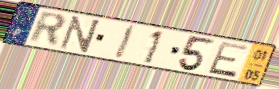1: (143, 30, 165, 65)
5: (175, 34, 218, 72)
E: (205, 41, 251, 80)
I: (112, 23, 138, 61)
N: (58, 15, 103, 54)
R: (27, 9, 69, 49)
